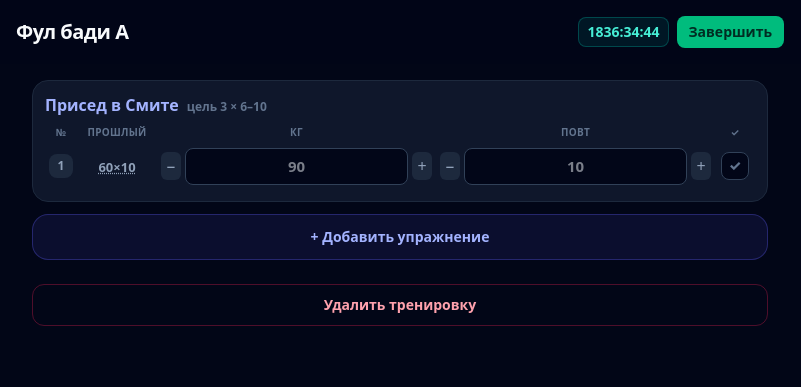
Test: WorkoutLogger › показывает упражнение дня и «Прошлый», логирует подход
Expected: the text "Присед в Смите" is shown, [45, 94, 179, 116]
Expected: the button "60×10" is shown, [98, 158, 136, 178]
In the field named "вес": (297, 166) [185, 148, 408, 184], type "80"
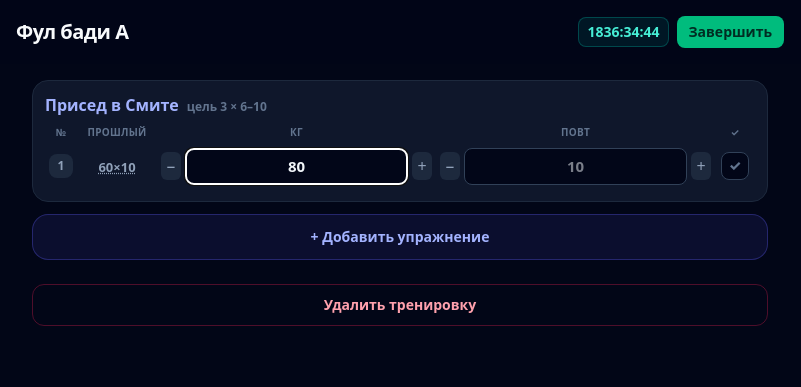
In the field named "повторы": (576, 166) [464, 148, 687, 184], type "8"
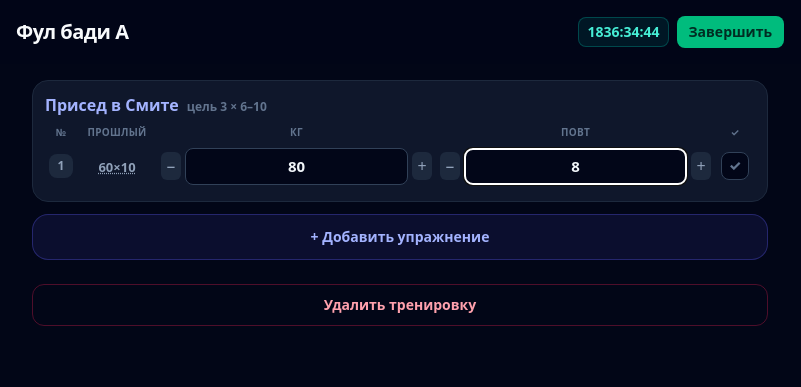
Click the button named "Записать подход": (735, 166) [721, 152, 749, 180]
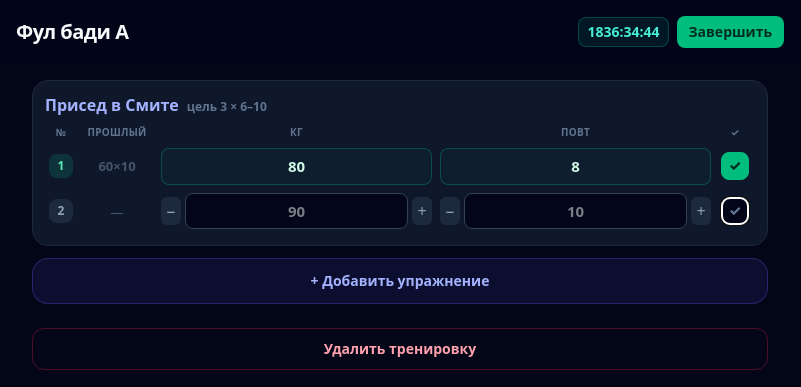
Expected: the button named "Снять отметку" is shown, [721, 152, 749, 180]
